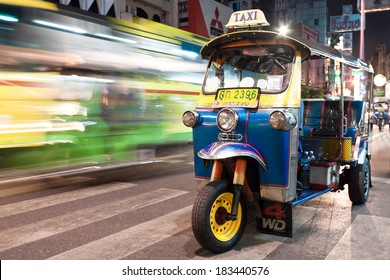threewheel: (182, 8, 373, 253)
